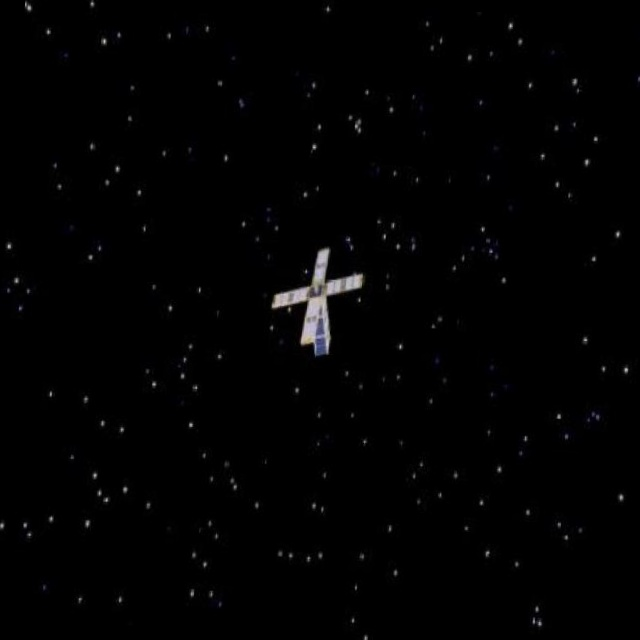satellite: (258, 237, 377, 363)
